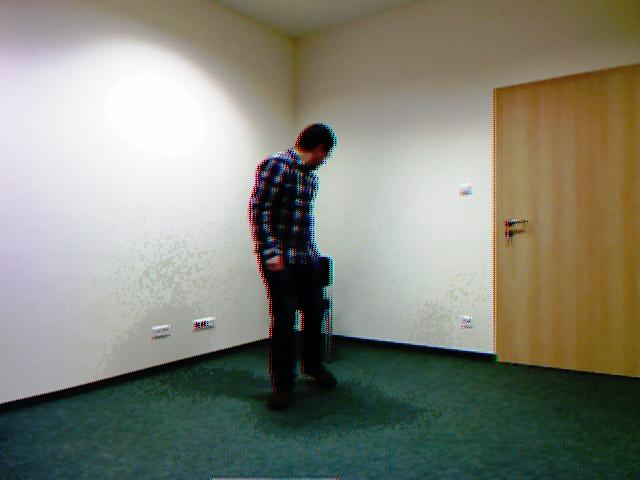walking: (242, 106, 351, 423)
